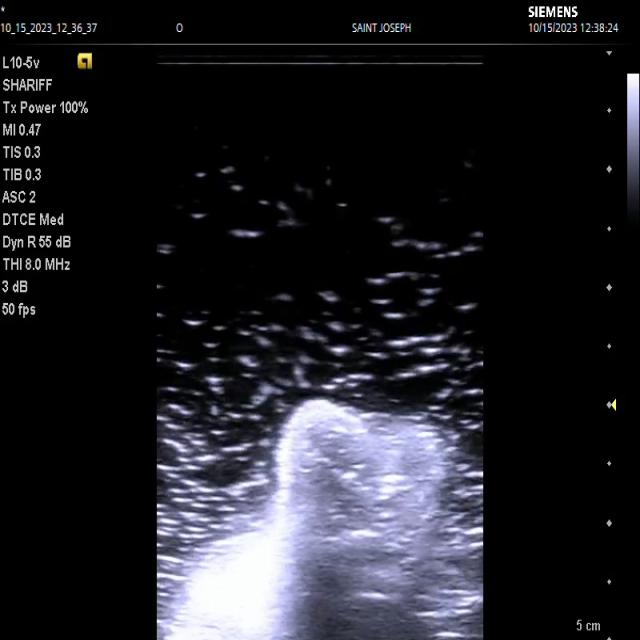tissue: (161, 395, 482, 640)
